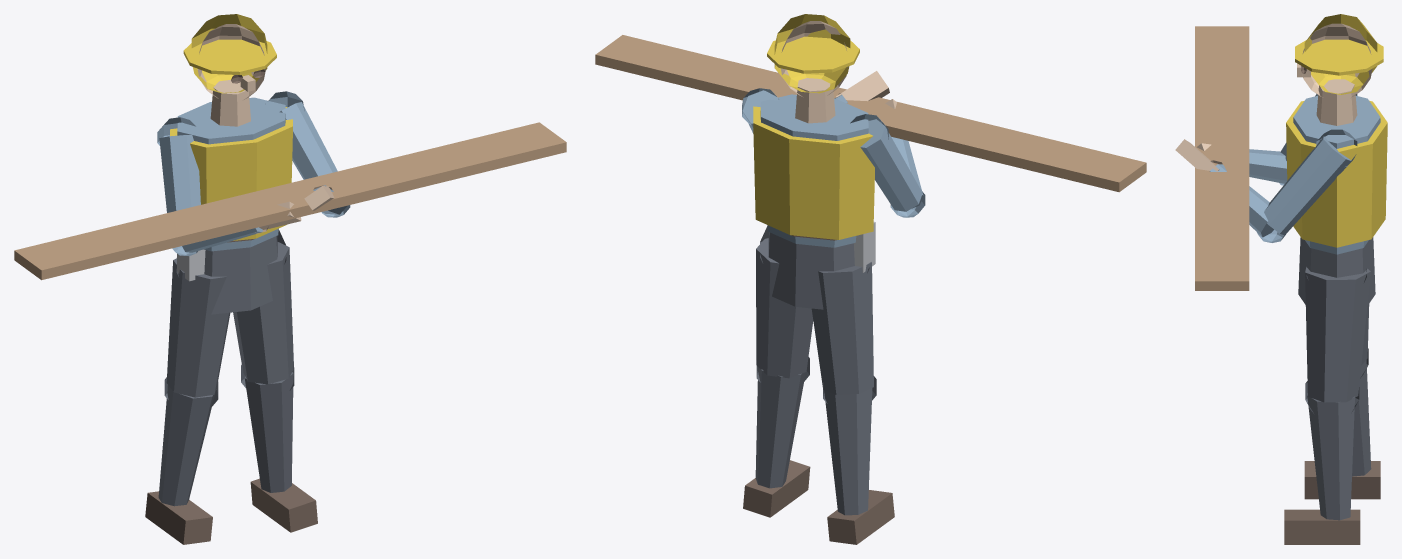
Rendered from low-poly-character-figures-builder-carrying-plank-6f49b89b__36356.glb.
3 views of the same model, side by side, from view 1: azimuth 30°, elevation 25°; view 2: azimuth 150°, elevation 25°; view 3: azimuth 270°, elevation 25° (orthographic).
Visible parts, largest first — view 1: builder-carrying-plank; view 2: builder-carrying-plank; view 3: builder-carrying-plank.
Boxes of the visible parts, box(x1,y1,x2,y2) form: builder-carrying-plank: box(14, 14, 566, 544); builder-carrying-plank: box(595, 14, 1146, 544); builder-carrying-plank: box(1175, 14, 1387, 544).
Bounding box in the file's own units: 2 × 1.83 × 0.7048.
